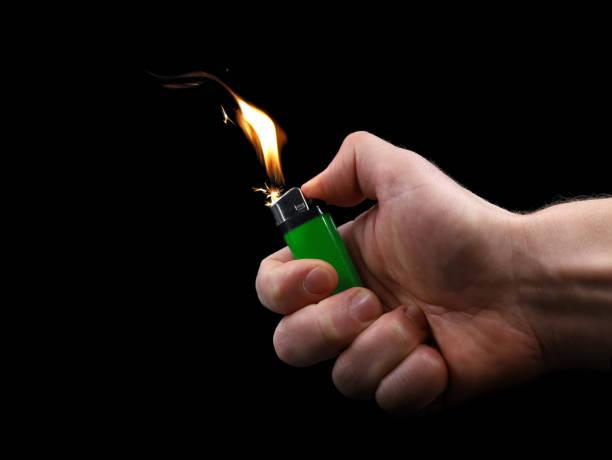Fire: (159, 64, 286, 204)
